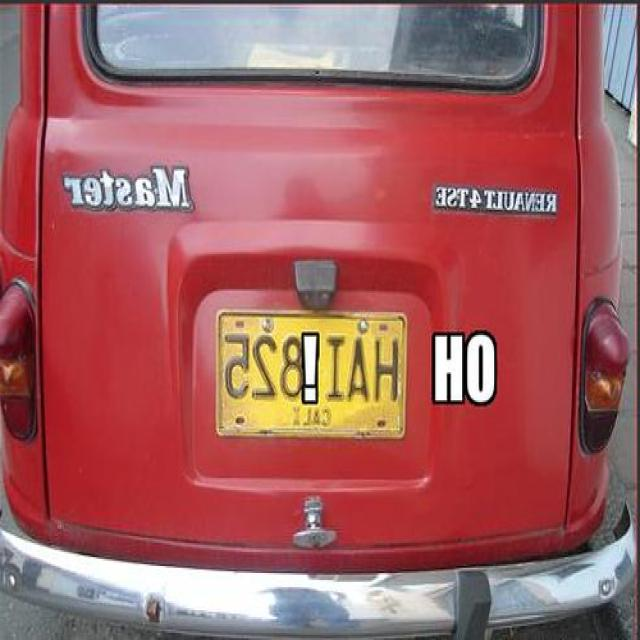placas: (220, 329, 403, 407)
